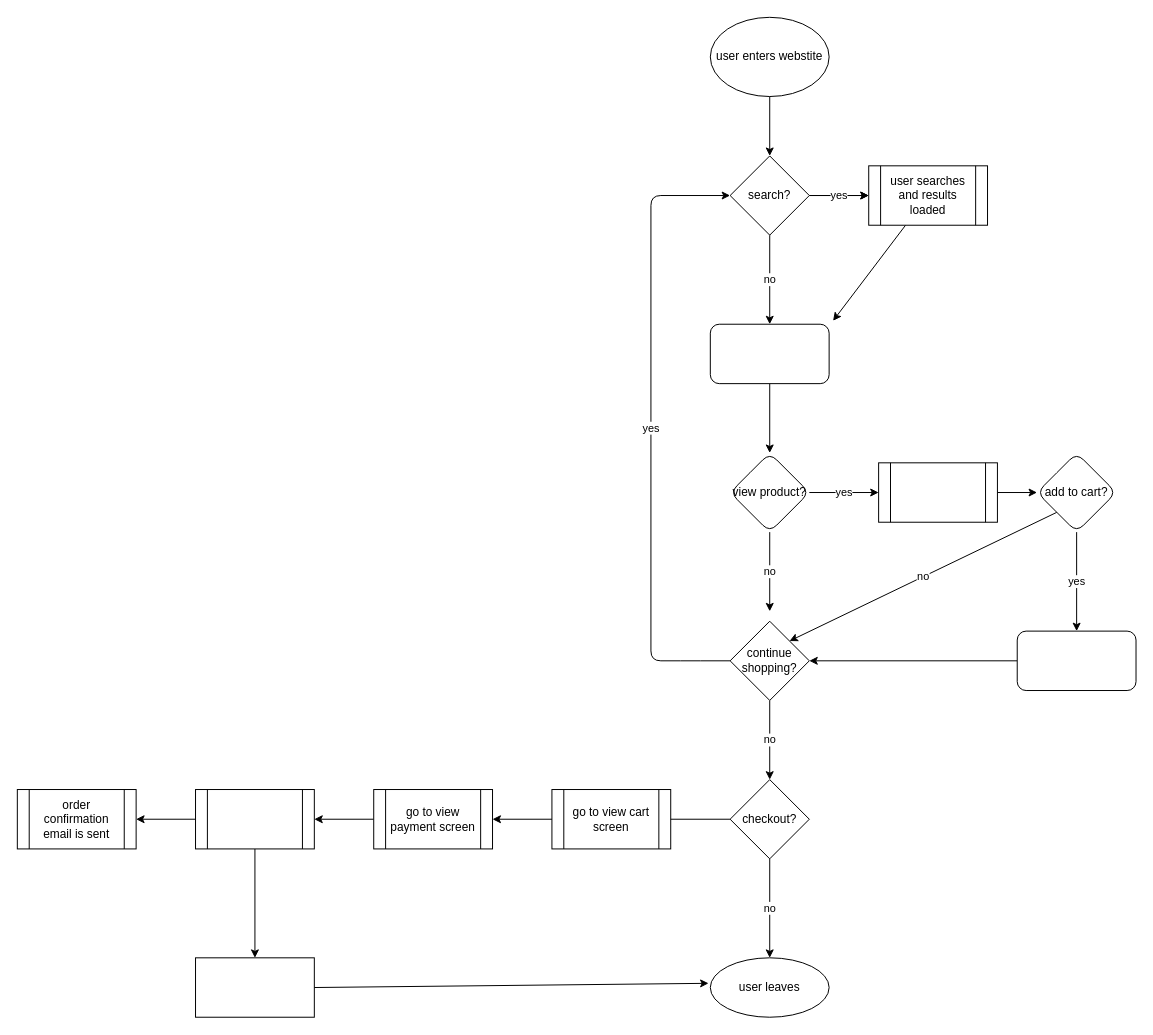
This 1153x1035 diagram has some shape labels left out. The shapes that lost their labels are listed below. From the top down, each one's box as (x1, y1, x2, y2) in pixels, then its label:
(709, 323, 829, 384): user browses content
(878, 462, 997, 522): product webpage loaded
(1016, 630, 1136, 691): added to cart confirmation
(195, 789, 314, 849): user inputs payment info
(195, 957, 314, 1017): order confirmation page
